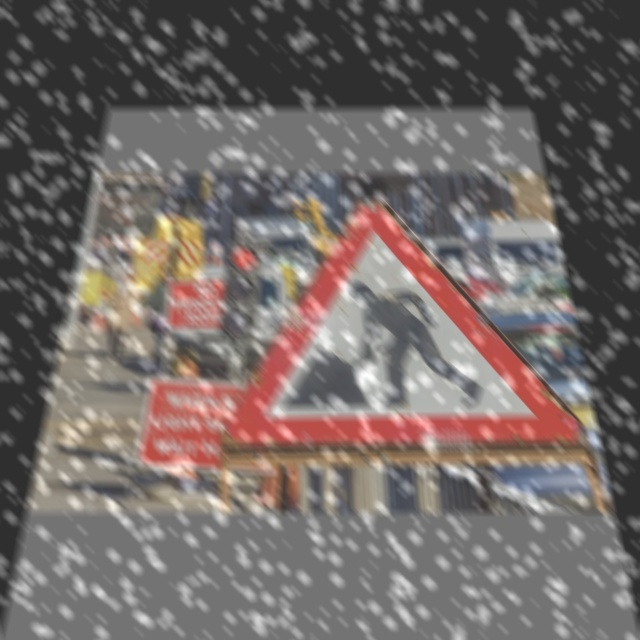Men_at_Work: (243, 206, 559, 452)
